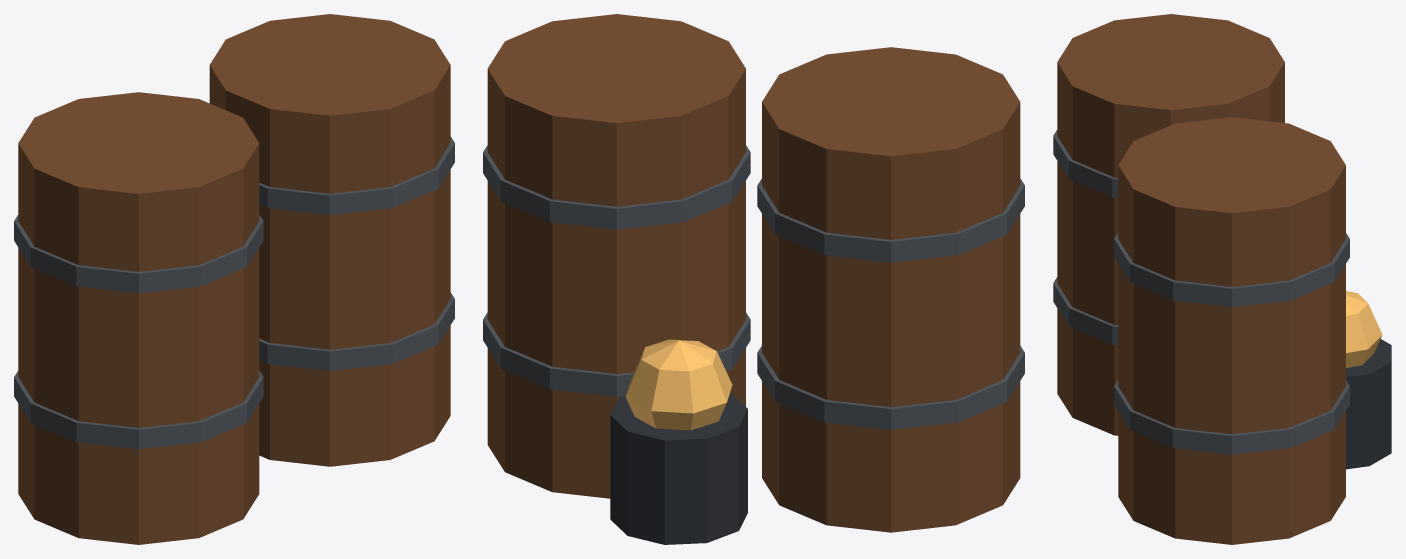
The model's file is decor_6.fbx.
The picture shows the model from 3 angles, left to right: view 1: azimuth 30°, elevation 25°; view 2: azimuth 150°, elevation 25°; view 3: azimuth 270°, elevation 25°; orthographic projection. The views are drawn at different scales.
Visible parts, largest first — view 1: decor_6; view 2: decor_6; view 3: decor_6.
Part boxes in pixels (x1=…): decor_6: x1=14, y1=14, x2=454, y2=544; decor_6: x1=483, y1=14, x2=1024, y2=544; decor_6: x1=1053, y1=14, x2=1391, y2=544.
Bounding box in the file's own units: 1.18 × 0.9 × 0.8327.
